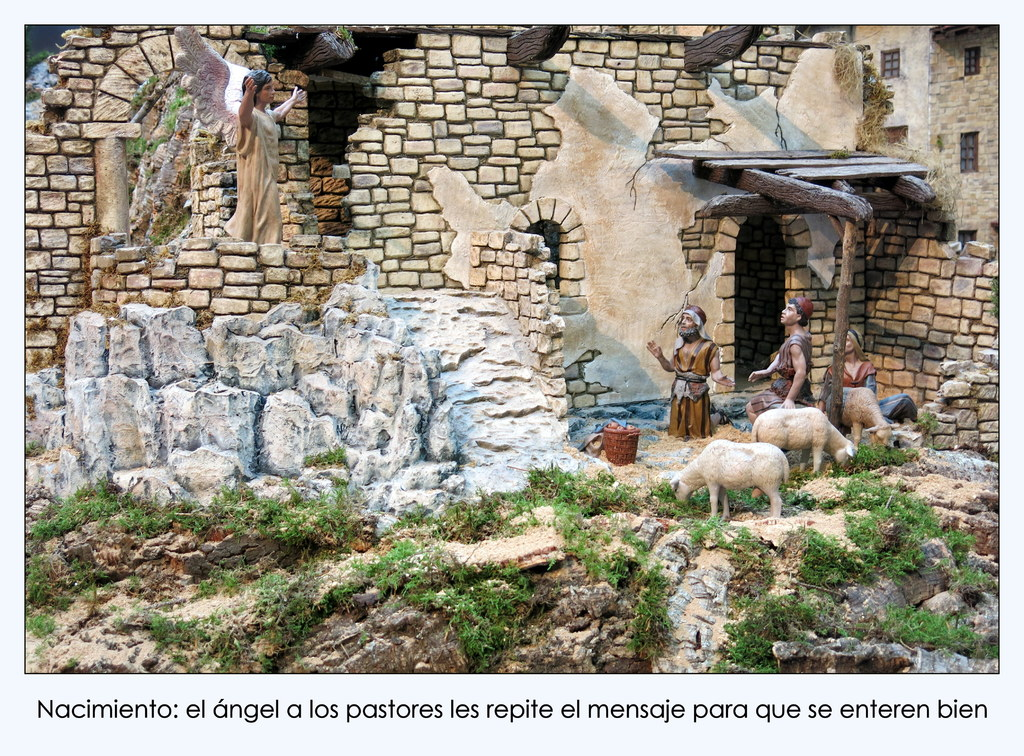sheep: (665, 437, 790, 521)
